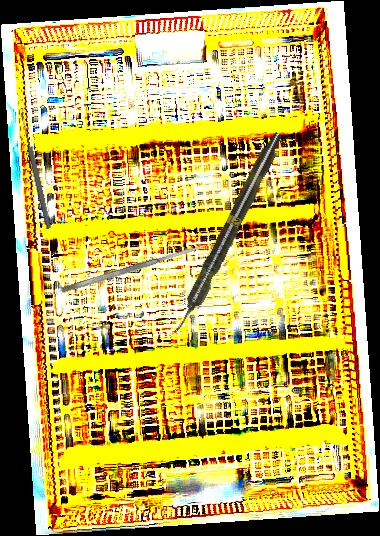Handpiece: (167, 128, 288, 339)
Spatula Surgical: (60, 243, 203, 295)
Surgical Spoon: (18, 111, 53, 230)
